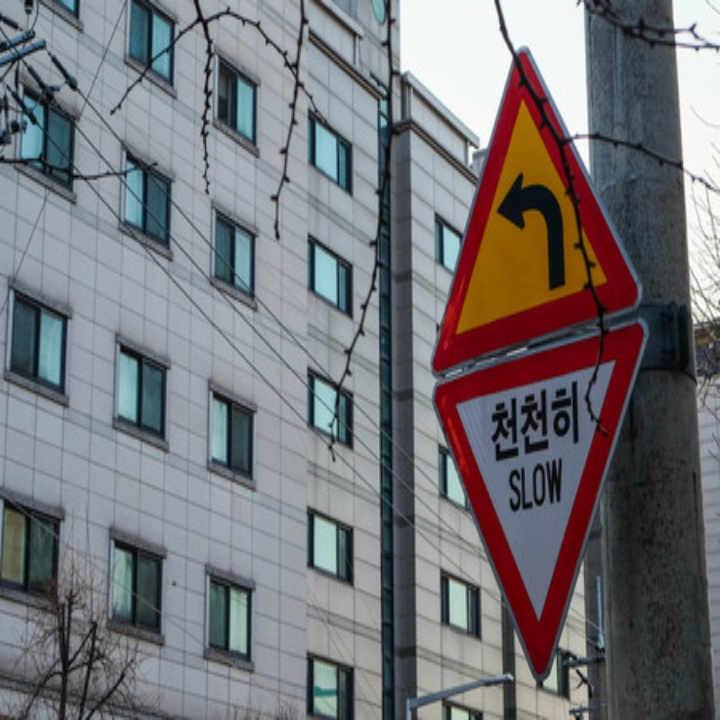left: (492, 166, 580, 295)
